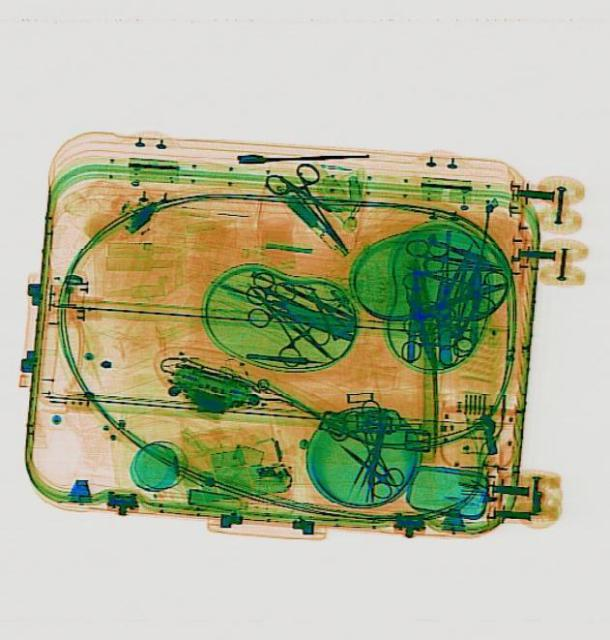Scissors: (258, 150, 368, 270), (225, 262, 331, 370), (324, 428, 408, 504), (400, 237, 499, 295)
